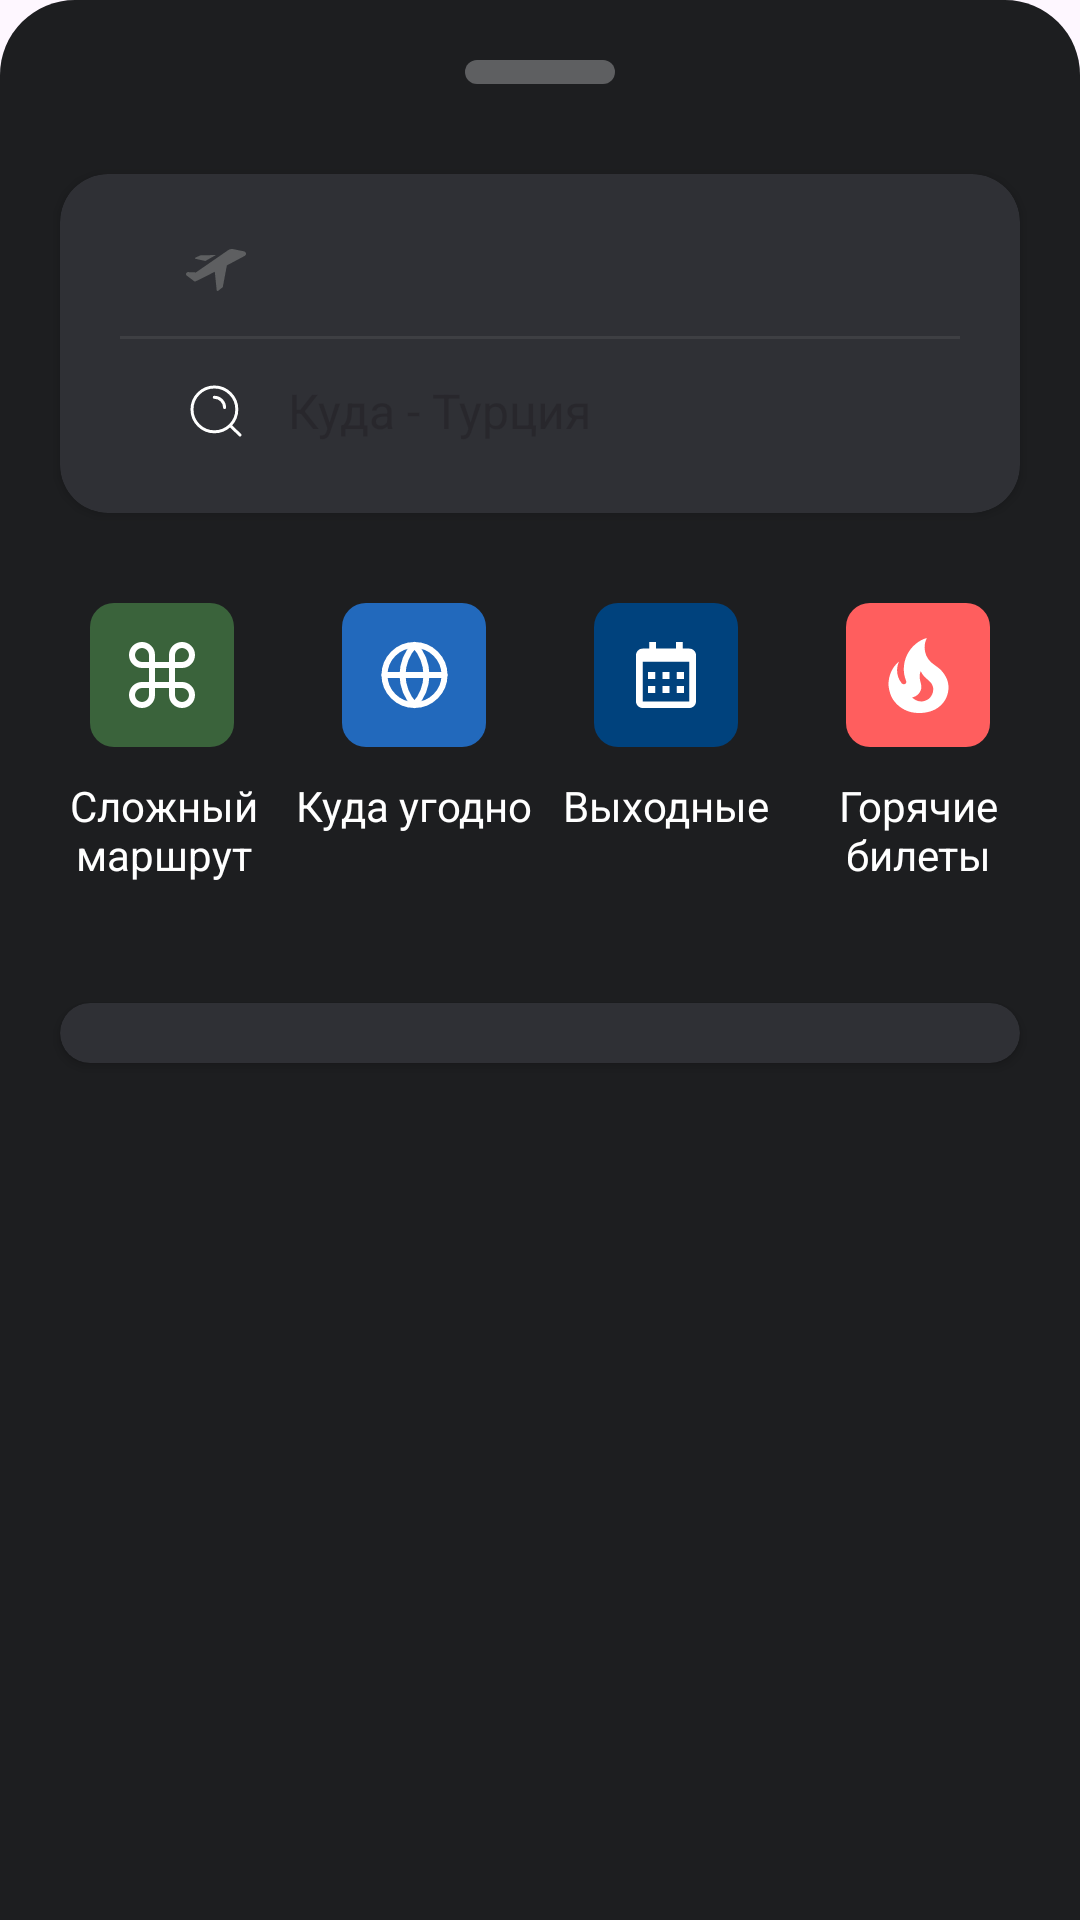

Icons on this 1080*1920 Android screen, each with its box as (left=x1, top=y1, right=x2, bottom=y2):
airplan bottom sheet fragment: (left=186, top=249, right=246, bottom=291)
